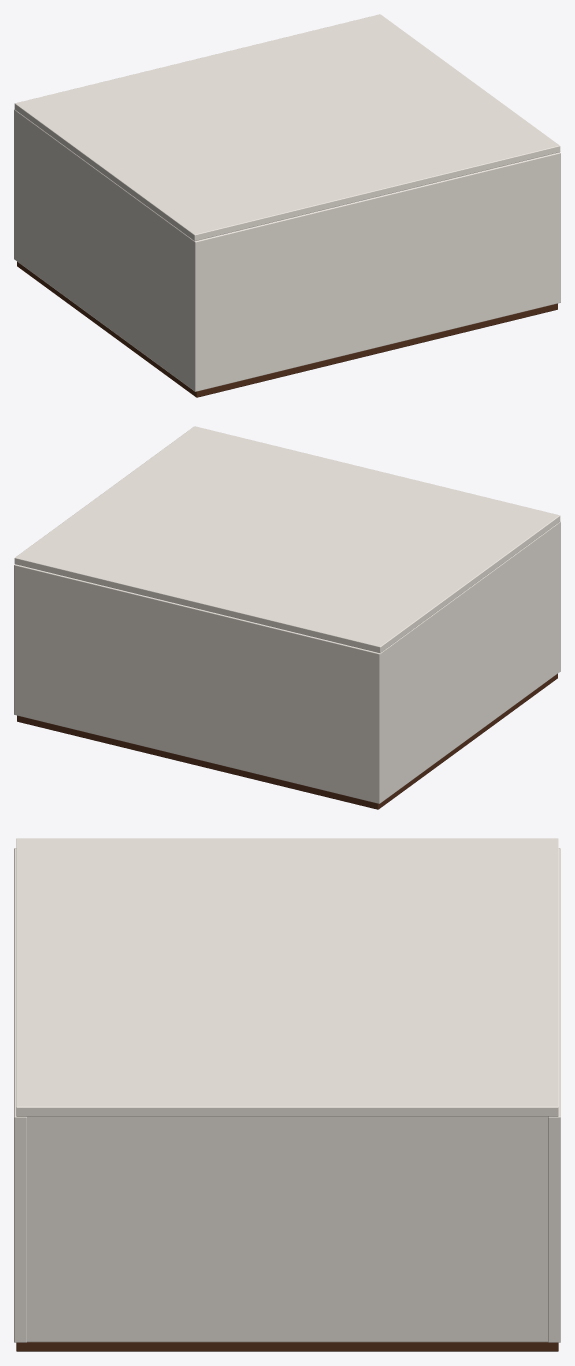
The model's file is myroom-v2-2.7.1.glb.
3 renders of one model, top to bottom at view 1: azimuth 30°, elevation 25°; view 2: azimuth 150°, elevation 25°; view 3: azimuth 270°, elevation 25°, orthographic. The views are drawn at different scales.
Visible parts, largest first — view 1: Cream ceiling, Entrance plaster wall, Continuous sealed west wall, Floor foundation, Rear plaster wall; view 2: Cream ceiling, Rear plaster wall, Continuous sealed west wall, Floor foundation; view 3: Cream ceiling, Right plaster wall, Floor foundation, Rear plaster wall, Entrance plaster wall.
Part boxes in pixels (box(x1,y1,x2,y2)): Cream ceiling: box(14, 14, 560, 241); Entrance plaster wall: box(192, 152, 560, 391); Continuous sealed west wall: box(15, 111, 194, 390); Floor foundation: box(17, 261, 557, 397); Rear plaster wall: box(14, 109, 17, 261); Cream ceiling: box(14, 426, 560, 653); Rear plaster wall: box(14, 564, 383, 803); Continuous sealed west wall: box(380, 522, 560, 801); Floor foundation: box(17, 673, 557, 809); Cream ceiling: box(16, 838, 558, 1116); Right plaster wall: box(27, 1116, 547, 1342); Floor foundation: box(16, 1342, 558, 1351); Rear plaster wall: box(548, 848, 560, 1342); Entrance plaster wall: box(14, 848, 26, 1342).
Size of the model in its own units: 8.8 by 3.76 by 7.56.
